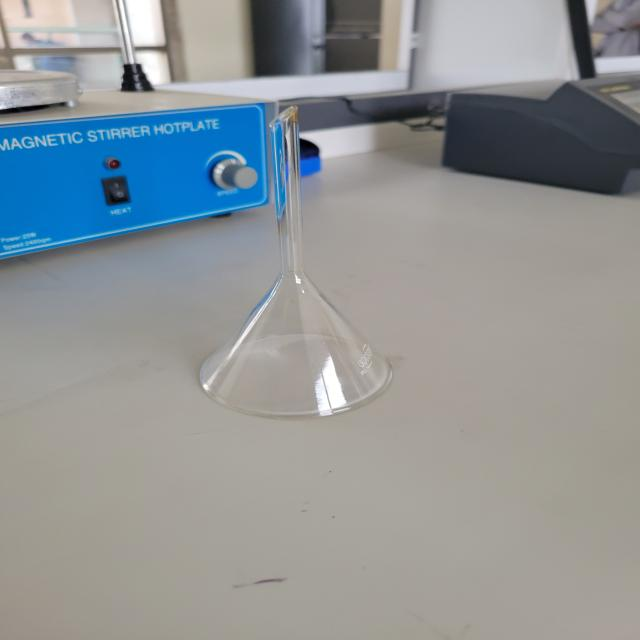Funnel: (174, 54, 414, 448)
